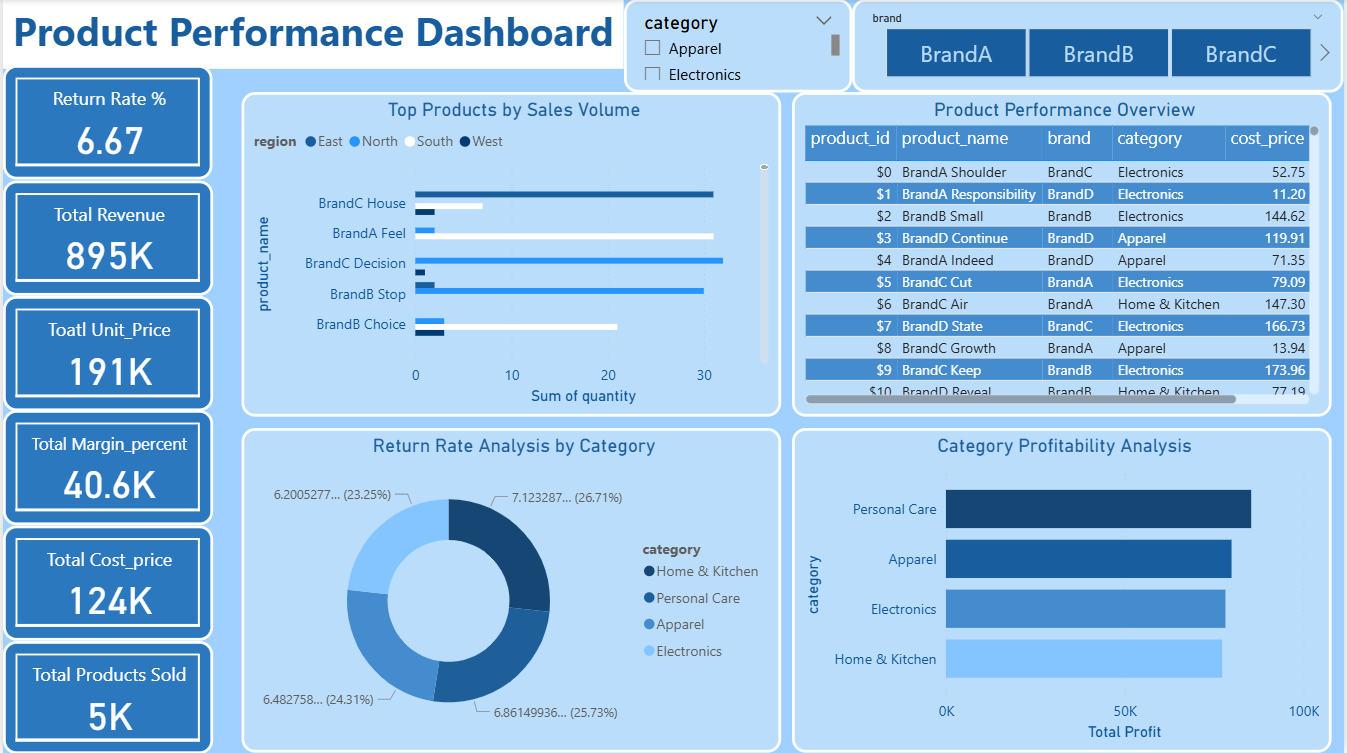

The dashboard page shown, as its layout file describes it:
{"tool":"powerbi","page":{"name":" Product Performance_Dashboard","canvas":[1280,720],"ordinal":2},"visuals":[{"type":"textbox","box":[0,0,592.6,66.4],"z":0},{"type":"barChart","title":"Category Profitability Analysis","fields":{"Category":["products_clean.category"],"Y":["customers_clean.Total Profit"]},"box":[753.9,410.4,515.4,310.2],"z":1000},{"type":"slicer","fields":{"Values":["products_clean.brand"]},"box":[811.2,0,469.2,89.1],"z":2000},{"type":"tableEx","title":"Product Performance Overview","fields":{"Values":["products_clean.product_id","products_clean.product_name","products_clean.brand","products_clean.category","products_clean.cost_price","products_clean.unit_price"]},"box":[753.9,89.1,515.4,310.2],"z":3000},{"type":"donutChart","title":"Return Rate Analysis by Category","fields":{"Category":["products_clean.category"],"Y":["products_clean.Return Rate %"]},"box":[227.5,410.4,515.4,310.2],"z":4000},{"type":"cardVisual","fields":{"Data":["products_clean.Return Rate %"]},"box":[0,63.6,200,109],"z":5000},{"type":"cardVisual","fields":{"Data":["products_clean.Toatl Unit_Price"]},"box":[0,283.1,200.4,109.8],"z":6000},{"type":"cardVisual","fields":{"Data":["products_clean.Total Cost_price"]},"box":[0,502.6,200.4,109.8],"z":7000},{"type":"cardVisual","fields":{"Data":["products_clean.Total Margin_percent"]},"box":[0,392.9,200.4,109.8],"z":8000},{"type":"clusteredBarChart","title":"Top Products by Sales Volume","fields":{"Category":["products_clean.product_name"],"Series":["customers_clean.region"],"Y":["Sum(sales_clean.quantity)"]},"box":[227.5,89.1,515.4,310.2],"z":9000},{"type":"cardVisual","fields":{"Data":["products_clean.Total Products Sold"]},"box":[0,612.4,200.4,108],"z":10000},{"type":"cardVisual","fields":{"Data":["customers_clean.Total Revenue"]},"box":[0,173.4,200.4,109.8],"z":11000},{"type":"slicer","fields":{"Values":["products_clean.category"]},"box":[593.3,0,217.9,89.1],"z":12000}]}

Visuals, with their boxes in screenshot pixels (x1, y1, x2, y2), scaled from the page's 1280x720 canvas onto the 1347x753 screenshot:
textbox: {"x1": 0, "y1": 0, "x2": 624, "y2": 69}
"Category Profitability Analysis" barChart: {"x1": 793, "y1": 429, "x2": 1336, "y2": 752}
slicer - products_clean.brand: {"x1": 854, "y1": 0, "x2": 1346, "y2": 93}
"Product Performance Overview" tableEx: {"x1": 793, "y1": 93, "x2": 1336, "y2": 418}
"Return Rate Analysis by Category" donutChart: {"x1": 239, "y1": 429, "x2": 782, "y2": 752}
cardVisual - products_clean.Return Rate %: {"x1": 0, "y1": 67, "x2": 210, "y2": 181}
cardVisual - products_clean.Toatl Unit_Price: {"x1": 0, "y1": 296, "x2": 211, "y2": 411}
cardVisual - products_clean.Total Cost_price: {"x1": 0, "y1": 526, "x2": 211, "y2": 640}
cardVisual - products_clean.Total Margin_percent: {"x1": 0, "y1": 411, "x2": 211, "y2": 526}
"Top Products by Sales Volume" clusteredBarChart: {"x1": 239, "y1": 93, "x2": 782, "y2": 418}
cardVisual - products_clean.Total Products Sold: {"x1": 0, "y1": 640, "x2": 211, "y2": 752}
cardVisual - customers_clean.Total Revenue: {"x1": 0, "y1": 181, "x2": 211, "y2": 296}
slicer - products_clean.category: {"x1": 624, "y1": 0, "x2": 854, "y2": 93}
